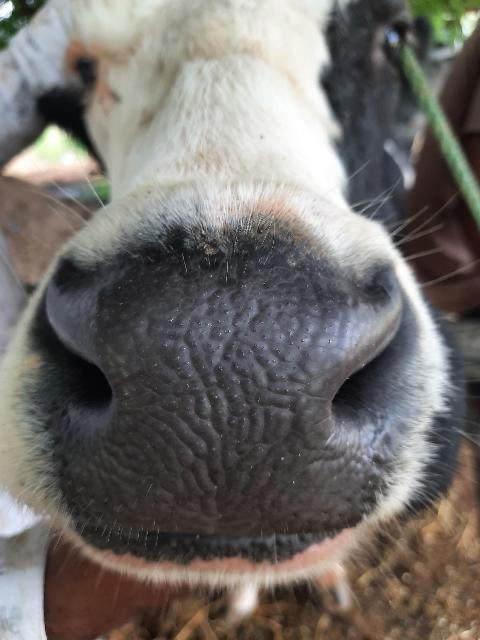Muzzle: (104, 284, 328, 532)
